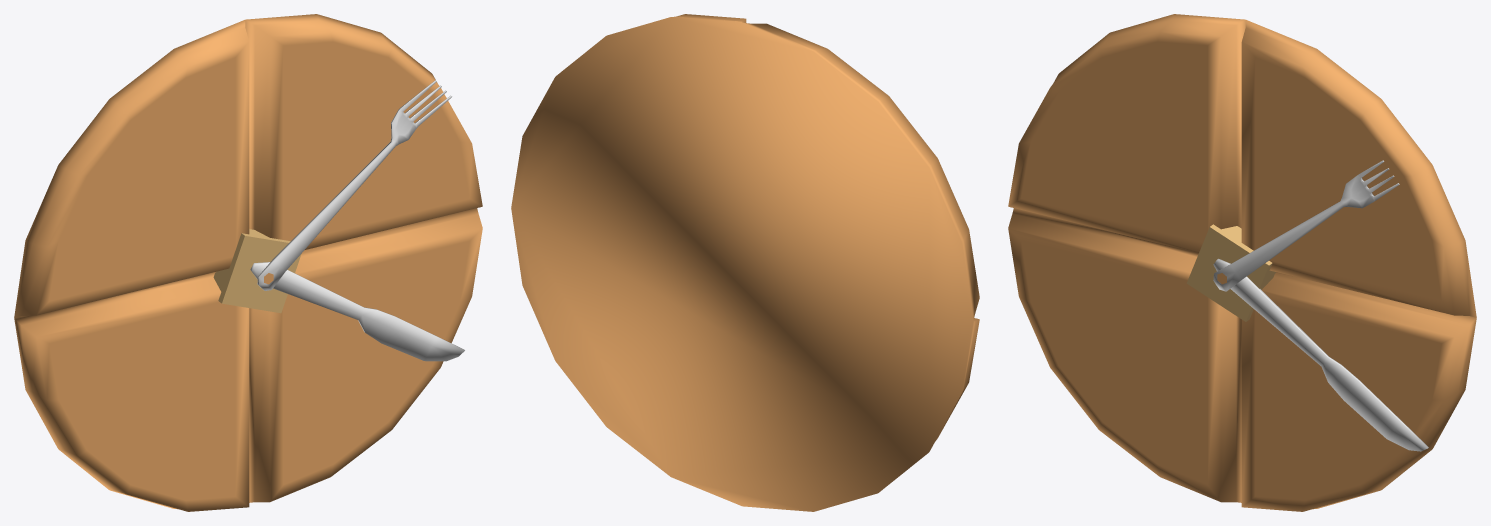
The model's file is waffle-clock.glb.
3 views of the same model, side by side, from view 1: azimuth 30°, elevation 25°; view 2: azimuth 150°, elevation 25°; view 3: azimuth 330°, elevation 25° (orthographic).
Parts seen in each view (by area): view 1: Cylinder; view 2: Cylinder; view 3: Cylinder.
Boxes of the visible parts, x1,y1,x2,y2 form: Cylinder: (14, 14, 482, 511); Cylinder: (511, 14, 979, 511); Cylinder: (1008, 14, 1476, 511).
Size of the model in its own units: 1.93 by 1.93 by 0.1934.
